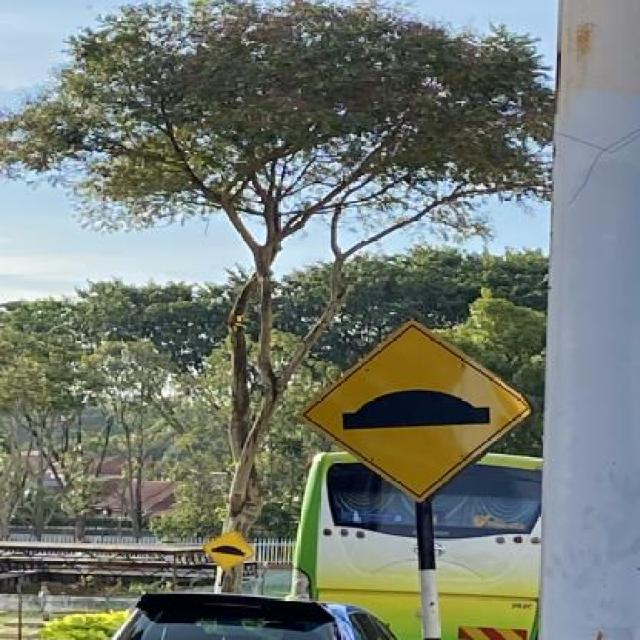Polisi Tidur: (290, 316, 533, 502)
